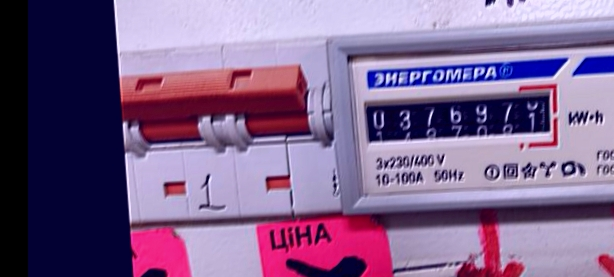0: (370, 109, 387, 131)
1: (526, 112, 539, 134)
3: (397, 109, 412, 133)
6: (448, 103, 463, 125)
7: (422, 104, 437, 129), (499, 101, 514, 125)
9: (473, 103, 488, 125)
screen: (357, 82, 564, 165)
